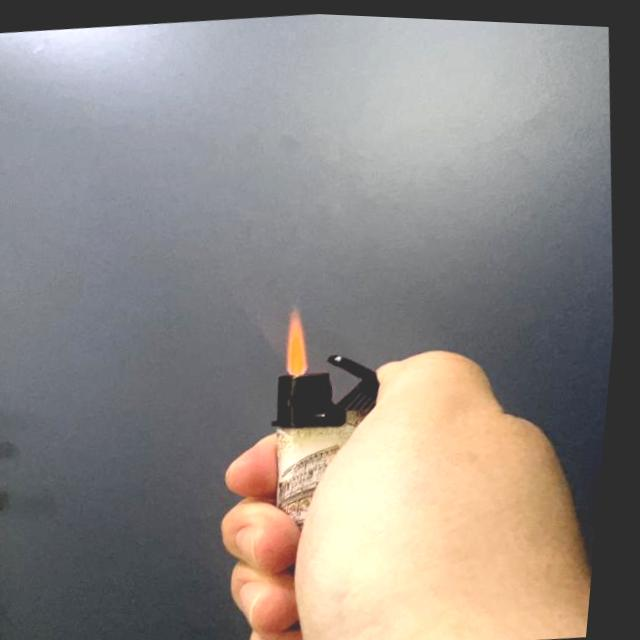helmet: (279, 297, 322, 373)
